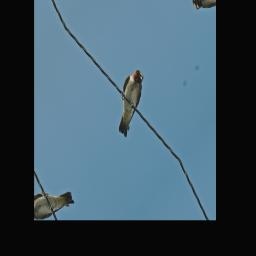Swallow: (103, 63, 159, 141)
